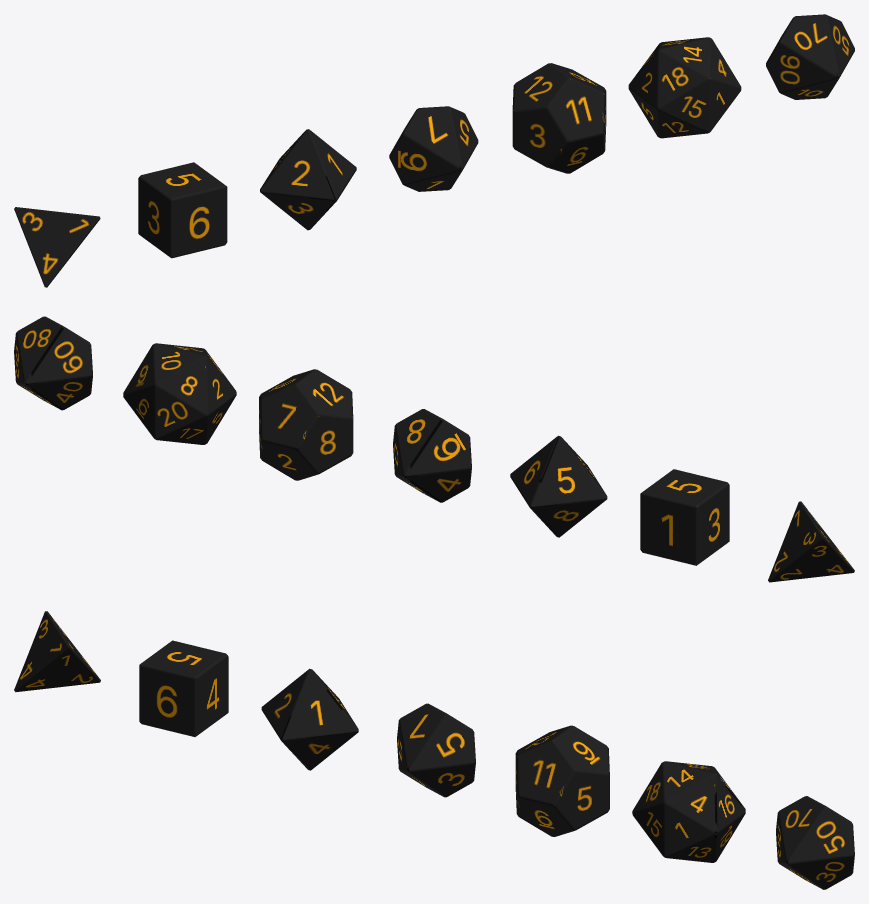
The model's file is halloween_diceset.glb.
The picture shows the model from 3 angles, top to bottom: view 1: azimuth 30°, elevation 25°; view 2: azimuth 150°, elevation 25°; view 3: azimuth 330°, elevation 25°; orthographic projection.
Visible parts, largest first — view 1: d12, d20, d6, d10, d100, d8, d4; view 2: d12, d20, d6, d100, d10, d8, d4; view 3: d12, d20, d6, d10, d100, d8, d4.
Part boxes in pixels (x1,y1,x2,y2): d12: [512, 63, 606, 173]; d20: [628, 37, 741, 138]; d6: [138, 162, 227, 258]; d10: [389, 106, 478, 191]; d100: [766, 14, 854, 99]; d8: [260, 129, 356, 230]; d4: [14, 207, 100, 287]; d12: [259, 369, 353, 480]; d20: [123, 343, 236, 444]; d6: [640, 469, 729, 565]; d100: [14, 316, 92, 410]; d10: [393, 409, 471, 502]; d8: [510, 435, 607, 537]; d4: [768, 501, 854, 582]; d12: [515, 725, 609, 836]; d20: [632, 761, 745, 862]; d6: [139, 640, 228, 736]; d10: [397, 703, 475, 797]; d100: [776, 796, 854, 889]; d8: [261, 668, 358, 770]; d4: [14, 611, 100, 692].
Size of the model in its own units: 16.37 by 1.89 by 1.89.
Materials: 7 (7 with a texture image).
